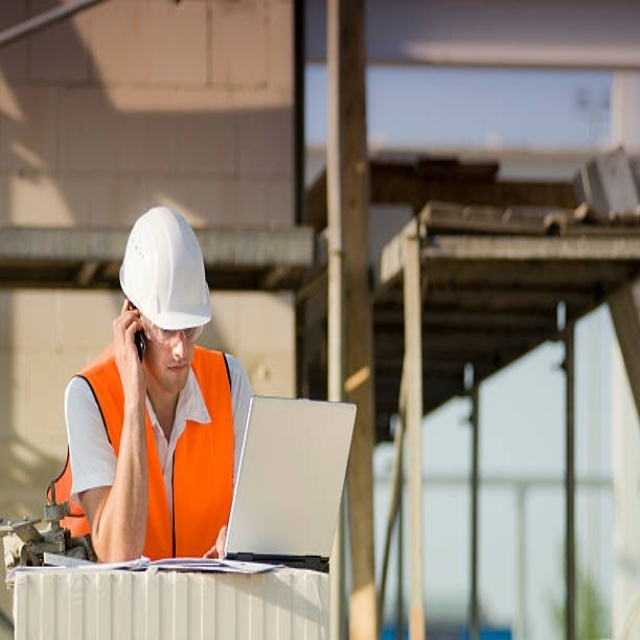Gafas: (138, 314, 206, 345)
Sin_guantes: (110, 298, 148, 392)
Sin_mascara: (159, 359, 192, 389)
